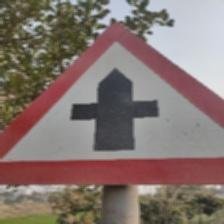Crossroad: (0, 15, 224, 188)
